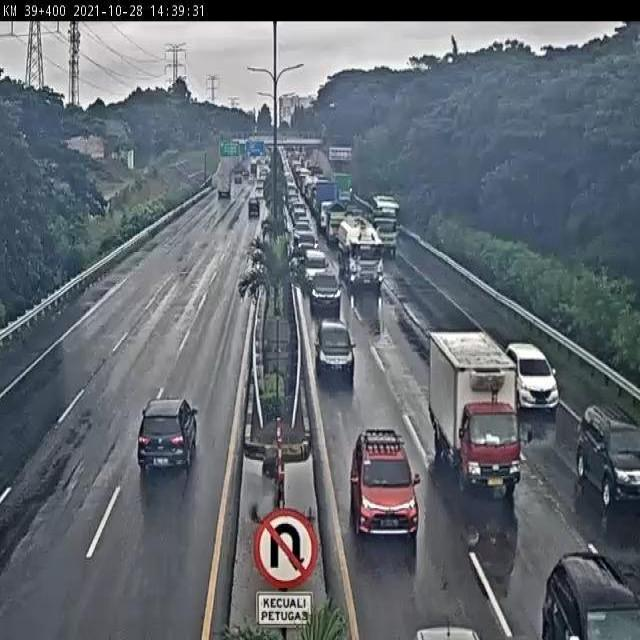big truck: (334, 216, 382, 292)
car: (344, 406, 428, 550), (531, 546, 640, 640), (131, 389, 217, 494), (576, 396, 640, 499), (494, 337, 561, 420), (312, 307, 354, 385), (305, 265, 344, 316), (241, 195, 265, 220)
small truck: (419, 324, 526, 508), (369, 207, 399, 257), (209, 168, 239, 203)
